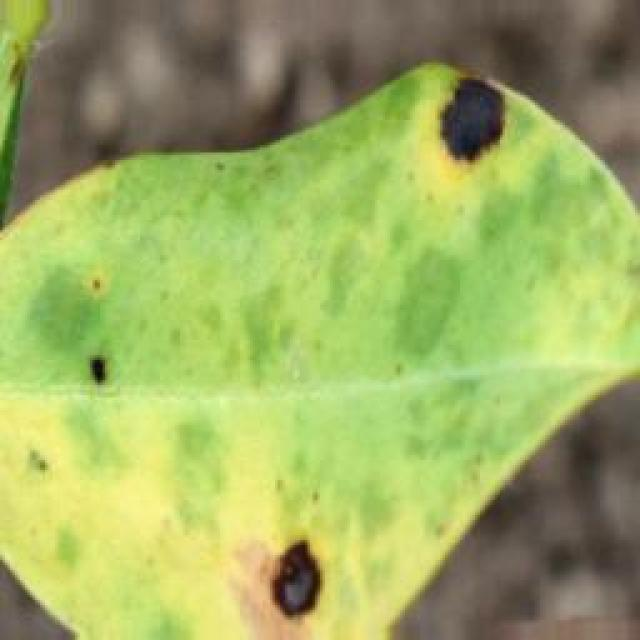Yellowish: (375, 52, 527, 230), (202, 494, 334, 632), (5, 331, 162, 428)
